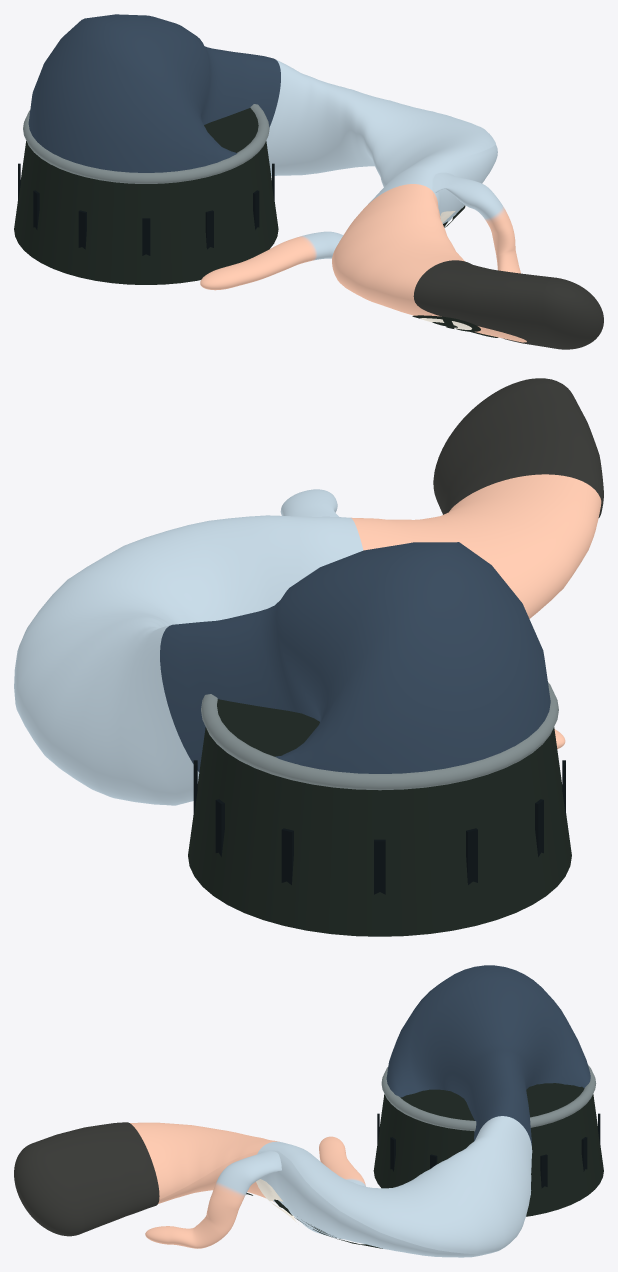
The model's file is air-dancer-none.glb.
3 views of the same model, one above another, from view 1: azimuth 30°, elevation 25°; view 2: azimuth 150°, elevation 25°; view 3: azimuth 270°, elevation 25° (orthographic). The views are drawn at different scales.
Visible parts, largest first — view 1: Trousers, Blower, Shirt, Hair, Skin, Air_Dancer, Arm_left, Arm_right, Face_ink; view 2: Trousers, Blower, Shirt, Skin, Hair, Air_Dancer, Arm_right; view 3: Shirt, Trousers, Blower, Hair, Skin, Arm_right, Air_Dancer, Arm_left.
Boxes of the visible parts, left/top/right/bottom form: Trousers: left=28, top=14, right=280, bottom=172; Blower: left=14, top=108, right=278, bottom=284; Shirt: left=266, top=60, right=497, bottom=223; Hair: left=413, top=260, right=603, bottom=349; Skin: left=332, top=184, right=526, bottom=342; Air_Dancer: left=23, top=104, right=269, bottom=183; Arm_left: left=200, top=231, right=343, bottom=290; Arm_right: left=433, top=172, right=520, bottom=273; Face_ink: left=412, top=205, right=498, bottom=337; Trousers: left=160, top=542, right=550, bottom=773; Blower: left=188, top=699, right=571, bottom=936; Shirt: left=14, top=515, right=363, bottom=805; Skin: left=351, top=474, right=601, bottom=618; Hair: left=433, top=378, right=603, bottom=517; Air_Dancer: left=201, top=682, right=558, bottom=790; Arm_right: left=280, top=489, right=338, bottom=516; Shirt: left=257, top=1116, right=532, bottom=1257; Trousers: left=386, top=965, right=590, bottom=1145; Blower: left=373, top=1083, right=603, bottom=1216; Hair: left=14, top=1122, right=159, bottom=1236; Skin: left=130, top=1122, right=279, bottom=1203; Arm_right: left=145, top=1151, right=281, bottom=1248; Air_Dancer: left=381, top=1065, right=596, bottom=1131; Arm_left: left=319, top=1136, right=365, bottom=1186.
Bounding box in the file's own units: 2.57 × 1.33 × 3.79.
